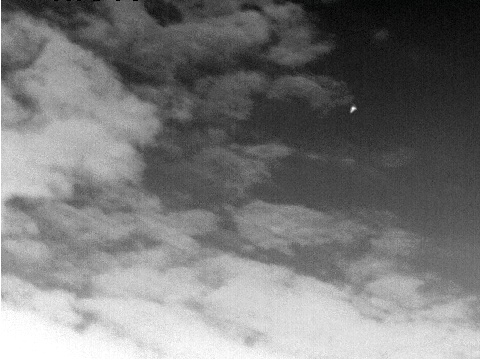dim target: (349, 103, 358, 115)
